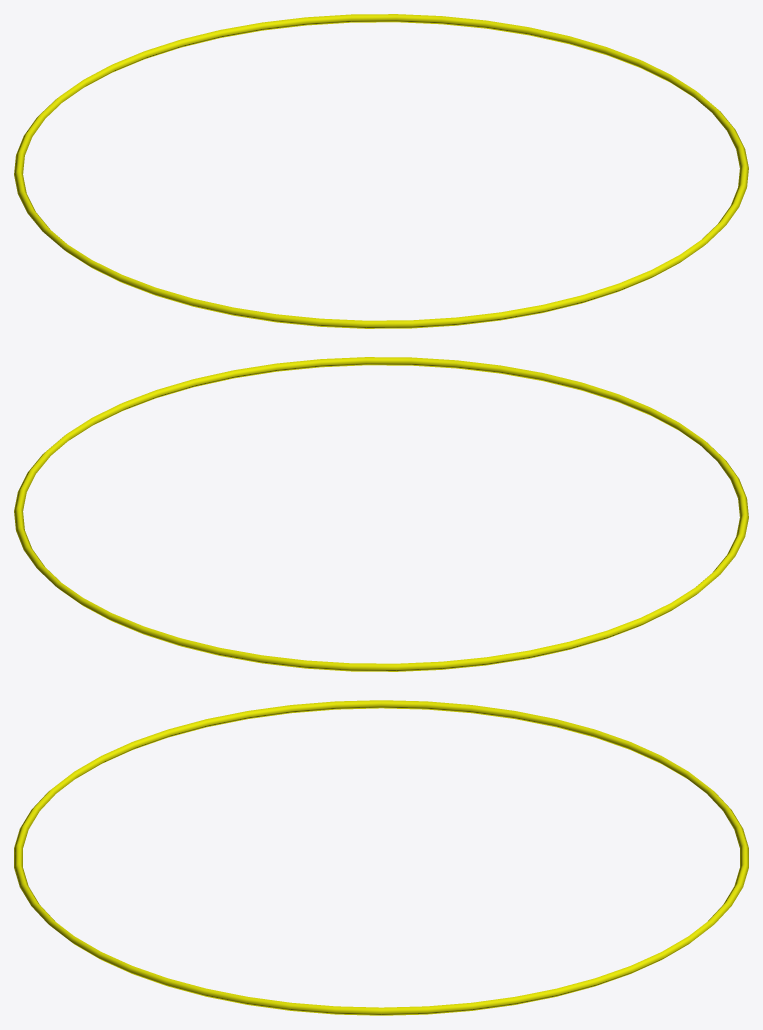
The model's file is Gizmo_ring_Y.fbx.
3 views of the same model, one above another, from view 1: azimuth 30°, elevation 25°; view 2: azimuth 150°, elevation 25°; view 3: azimuth 270°, elevation 25° (orthographic).
Parts seen in each view (by area): view 1: Gizmo_ring_Y; view 2: Gizmo_ring_Y; view 3: Gizmo_ring_Y.
Boxes of the visible parts, <box> form: Gizmo_ring_Y: <box>14,14,748,328</box>; Gizmo_ring_Y: <box>14,357,748,671</box>; Gizmo_ring_Y: <box>14,700,748,1015</box>.
Size of the model in its own units: 40.5 by 0.5 by 40.42.
